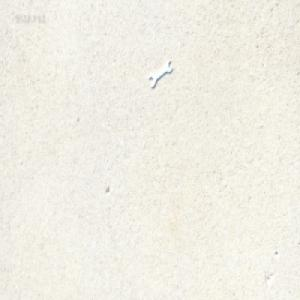Wrench: (149, 57, 172, 87)
